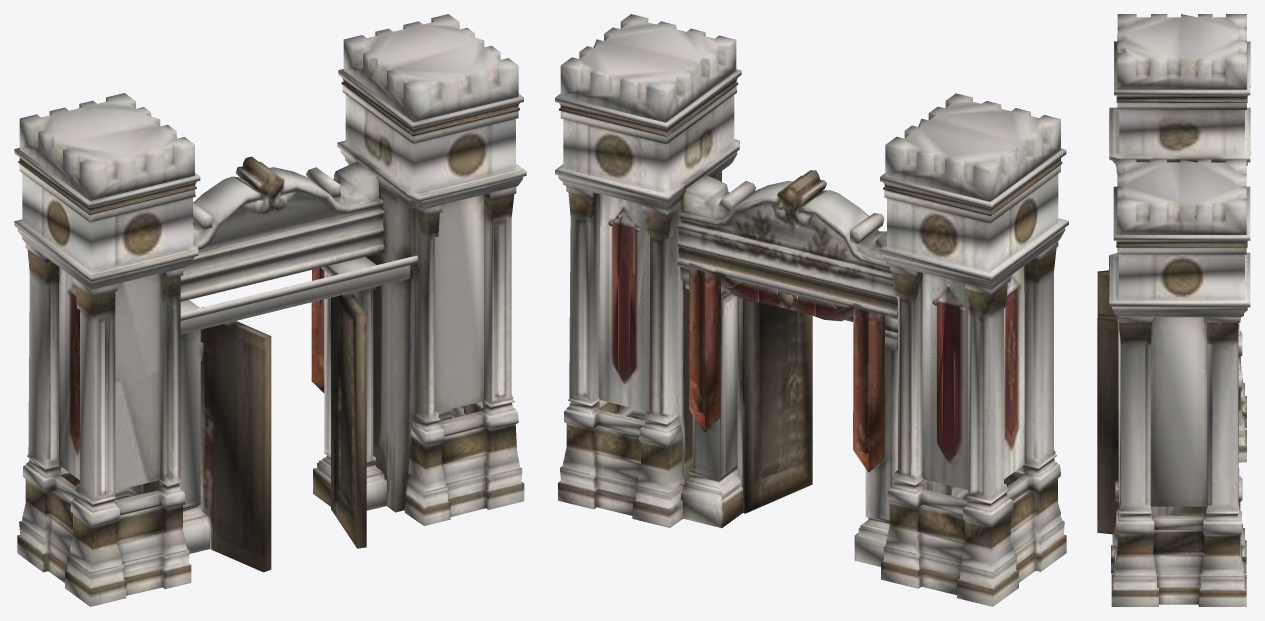
The model's file is city_gate_arch.glb.
3 views of the same model, side by side, from view 1: azimuth 30°, elevation 25°; view 2: azimuth 150°, elevation 25°; view 3: azimuth 270°, elevation 25° (orthographic). The views are drawn at different scales.
Parts seen in each view (by area): view 1: city_gate_arch; view 2: city_gate_arch; view 3: city_gate_arch.
Part boxes in pixels (left/top/right/bottom): city_gate_arch: left=14, top=14, right=526, bottom=606; city_gate_arch: left=555, top=14, right=1068, bottom=606; city_gate_arch: left=1097, top=14, right=1250, bottom=606.
Size of the model in its own units: 6.3 by 6 by 2.08.
1 material, 1 textured.
